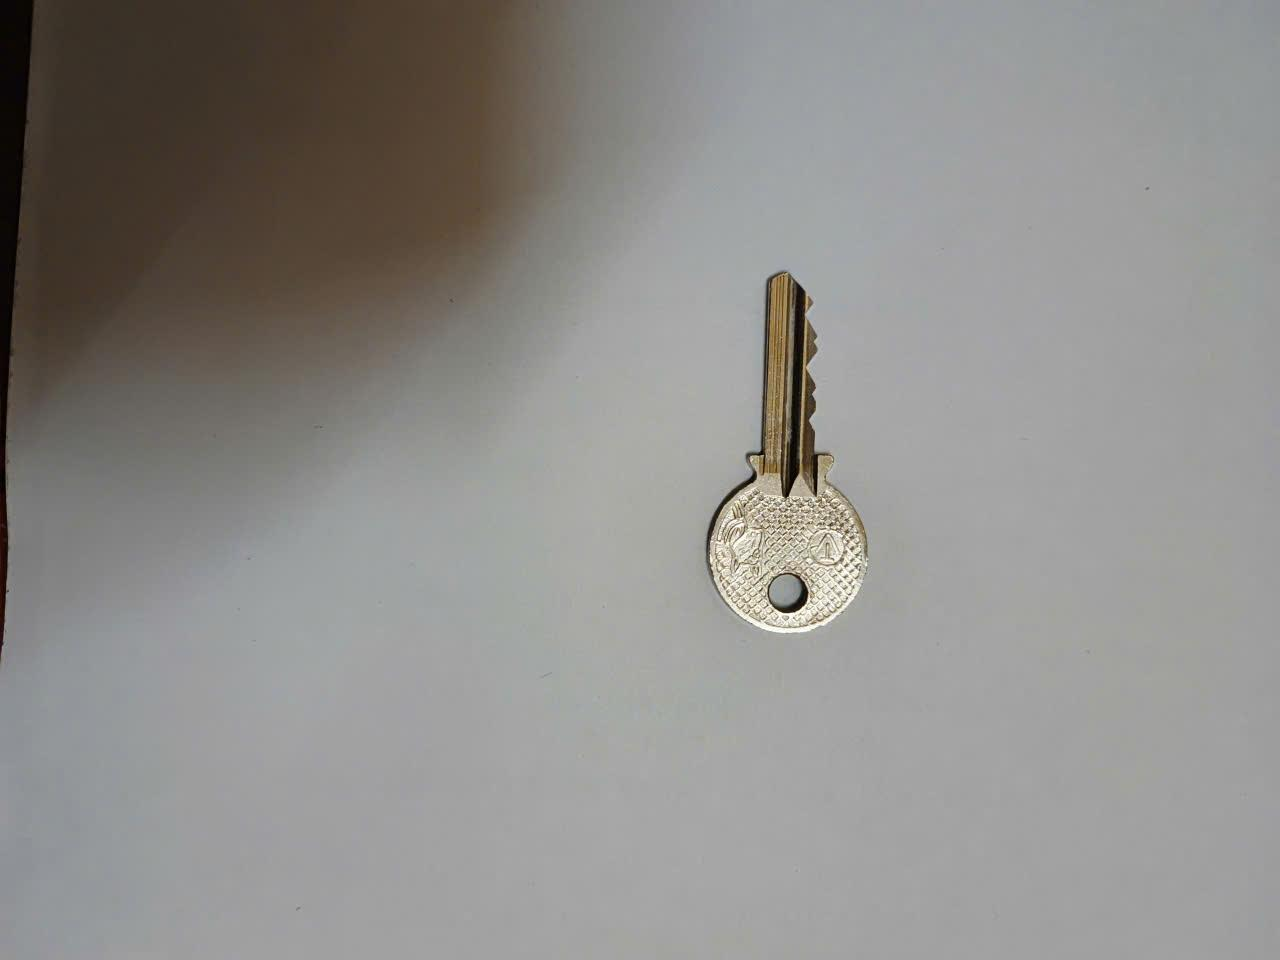Vo co: (706, 268, 871, 634)
